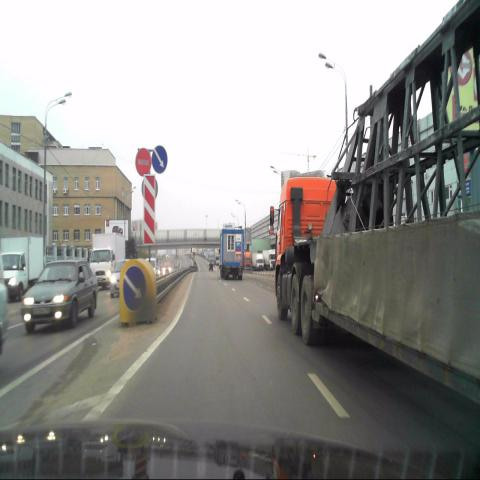3_1: (135, 148, 151, 176)
